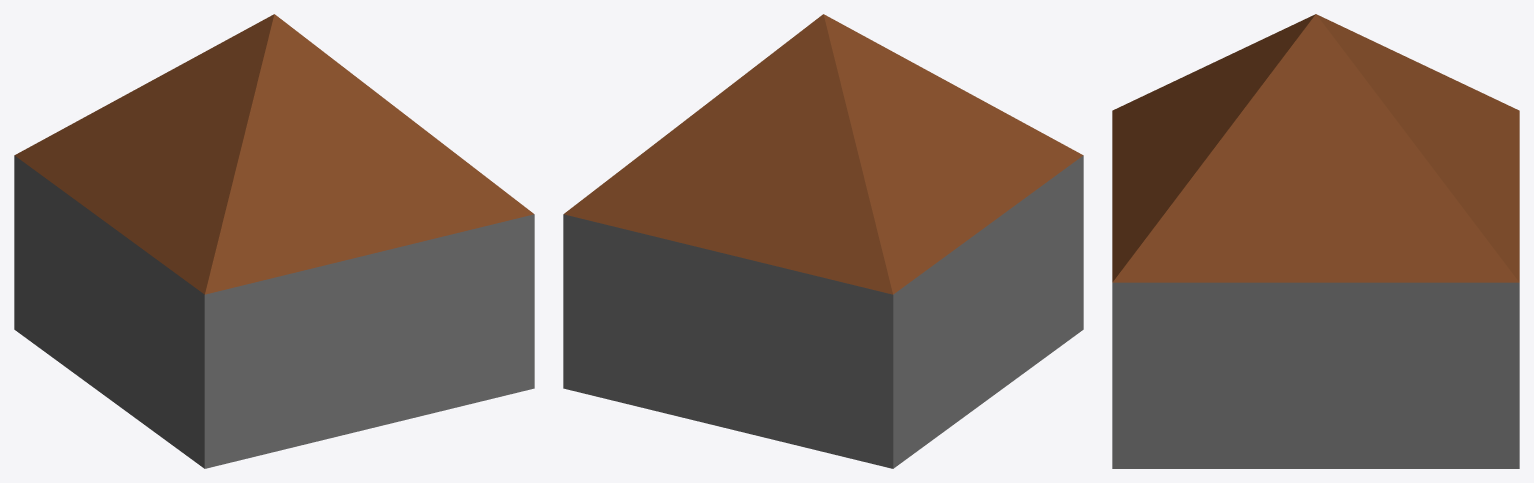
The model's file is House4.fbx.
3 renders of one model, left to right at view 1: azimuth 30°, elevation 25°; view 2: azimuth 150°, elevation 25°; view 3: azimuth 270°, elevation 25°, orthographic. The views are drawn at different scales.
Visible parts, largest first — view 1: polySurface36; view 2: polySurface36; view 3: polySurface36.
Part boxes in pixels (box(x1,y1,x2,y2)): polySurface36: box(14, 14, 534, 468); polySurface36: box(563, 14, 1083, 468); polySurface36: box(1112, 14, 1519, 468).
Size of the model in its own units: 2 by 2 by 2.
